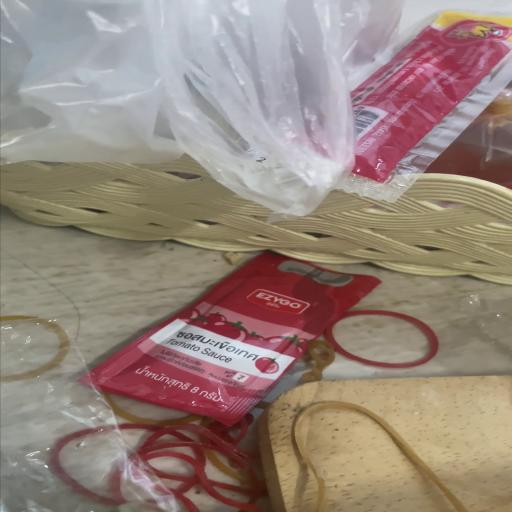brand_golden_good: (263, 377, 512, 512)
